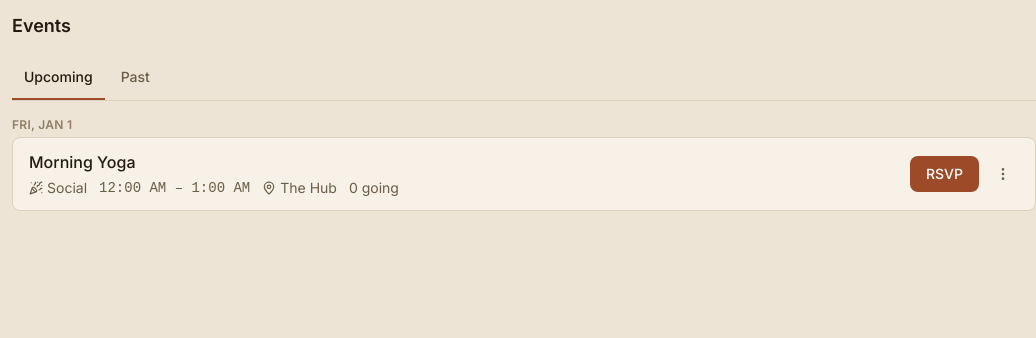
EventsSection › shows an error and signs out when cancelling an event fails with an expired session (401)
Click the button named "Event actions": [1003, 174] box [987,158,1019,190]
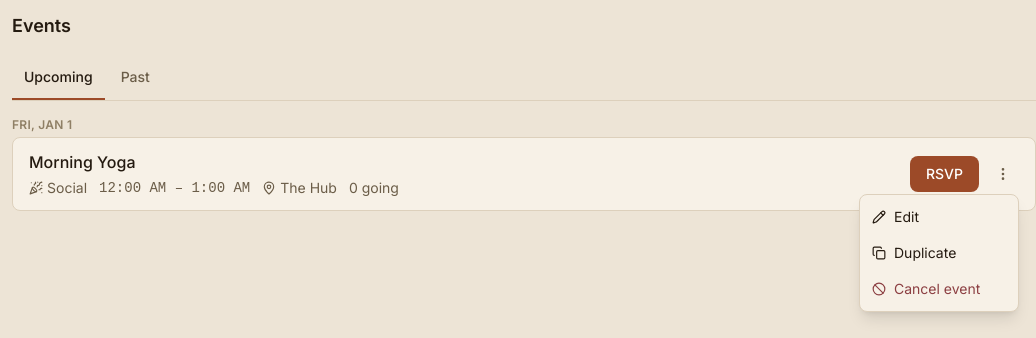
Click the button "Cancel event": [939, 289] box [860,271,1018,307]
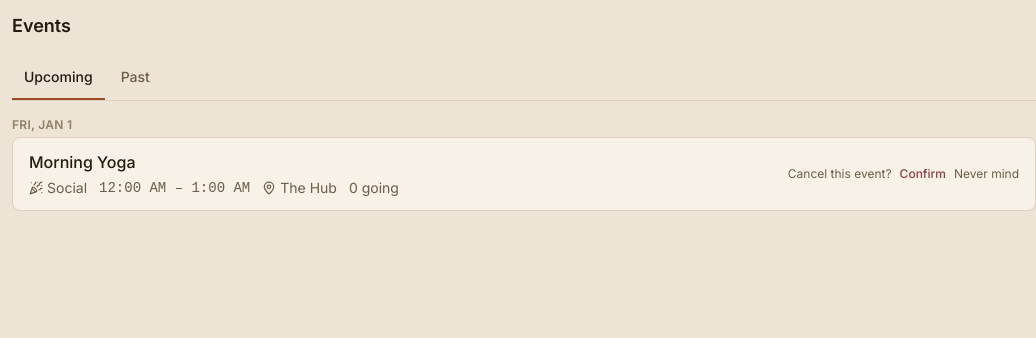
Click the button "Confirm": [923, 174] box [900,166,946,182]
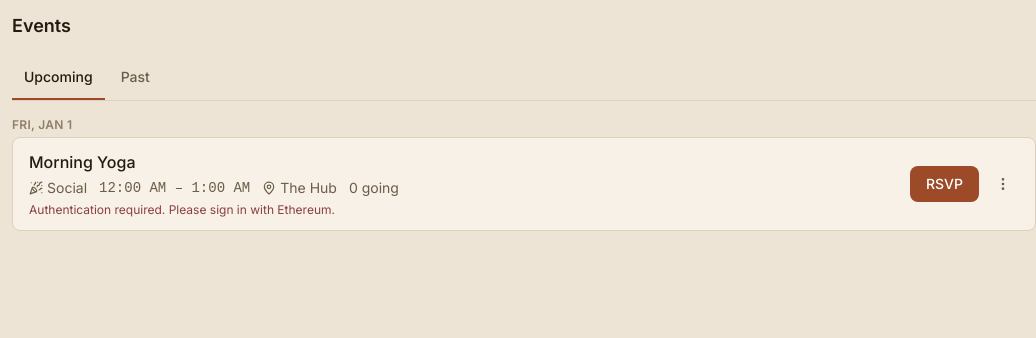
Check: the text "Authentication required. Please sign in with Ethereum." is shown, box [29,202,335,217]
